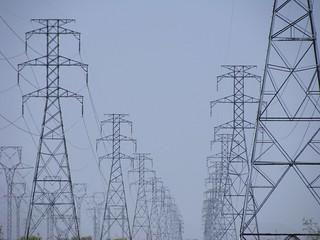power_tower: (15, 13, 91, 240), (208, 58, 267, 240), (96, 110, 137, 240), (0, 142, 27, 240)
